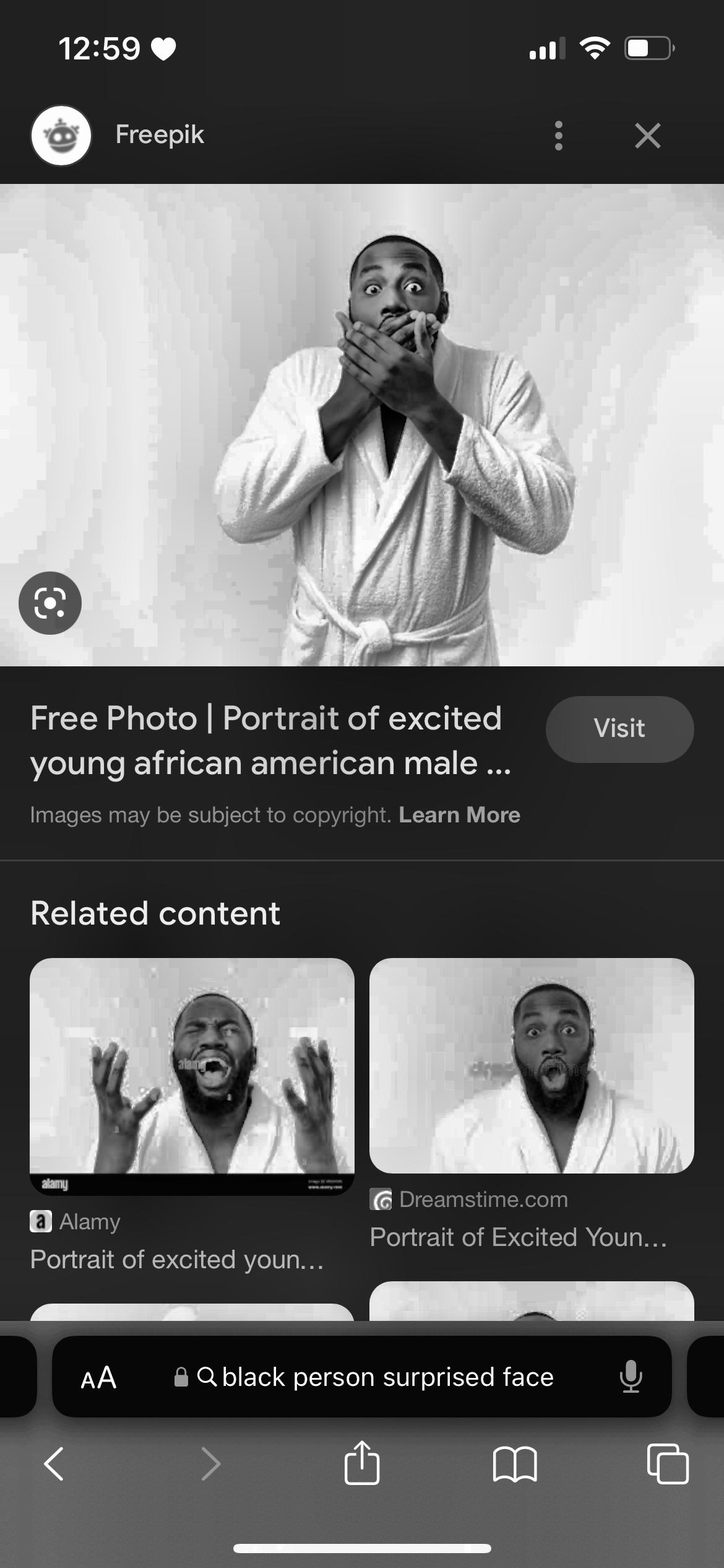surprised: (355, 262, 444, 367)
